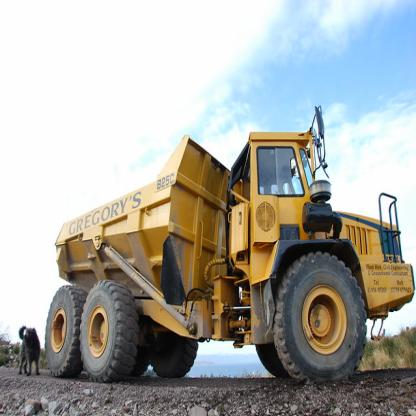dump_truck: (37, 120, 414, 389)
